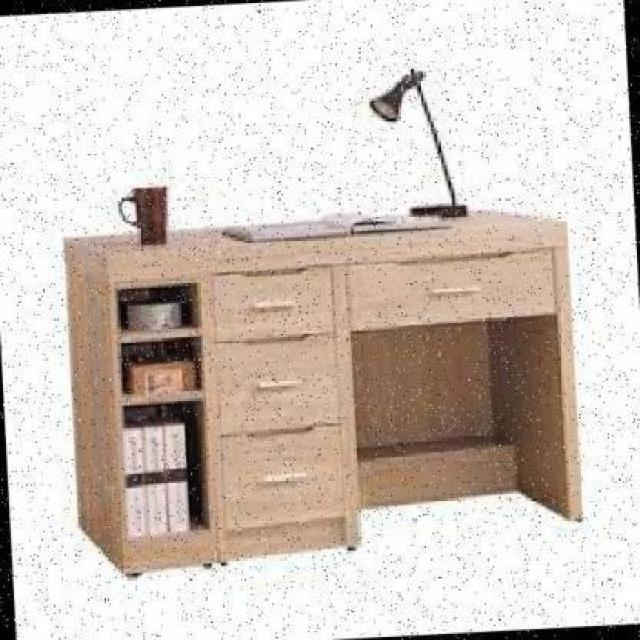tables: (63, 210, 583, 576)
